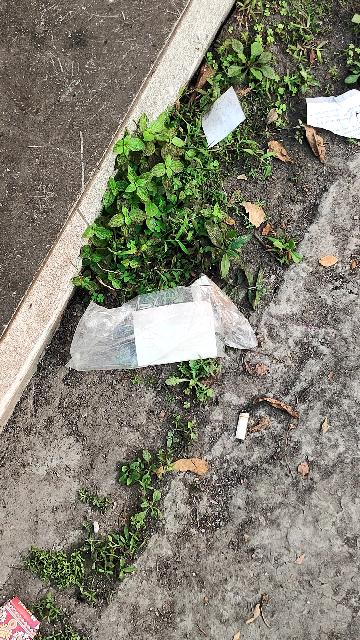polythene: (53, 265, 247, 375)
